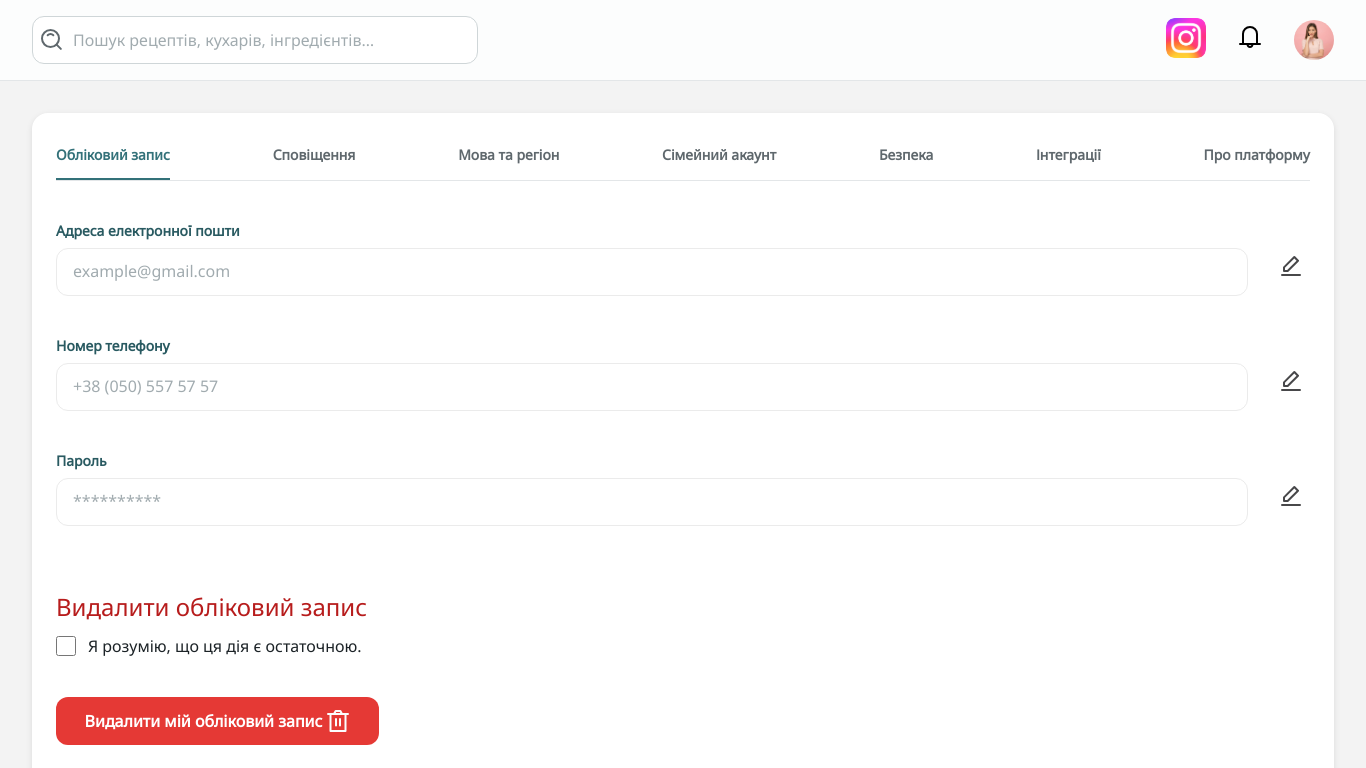
Test: SettingsPage full tests › switches sections when sidebar item is clicked
The image size is (1366, 768).
Click the list item "Сімейний акаунт". click: (719, 154)
box: [662,145,776,164]
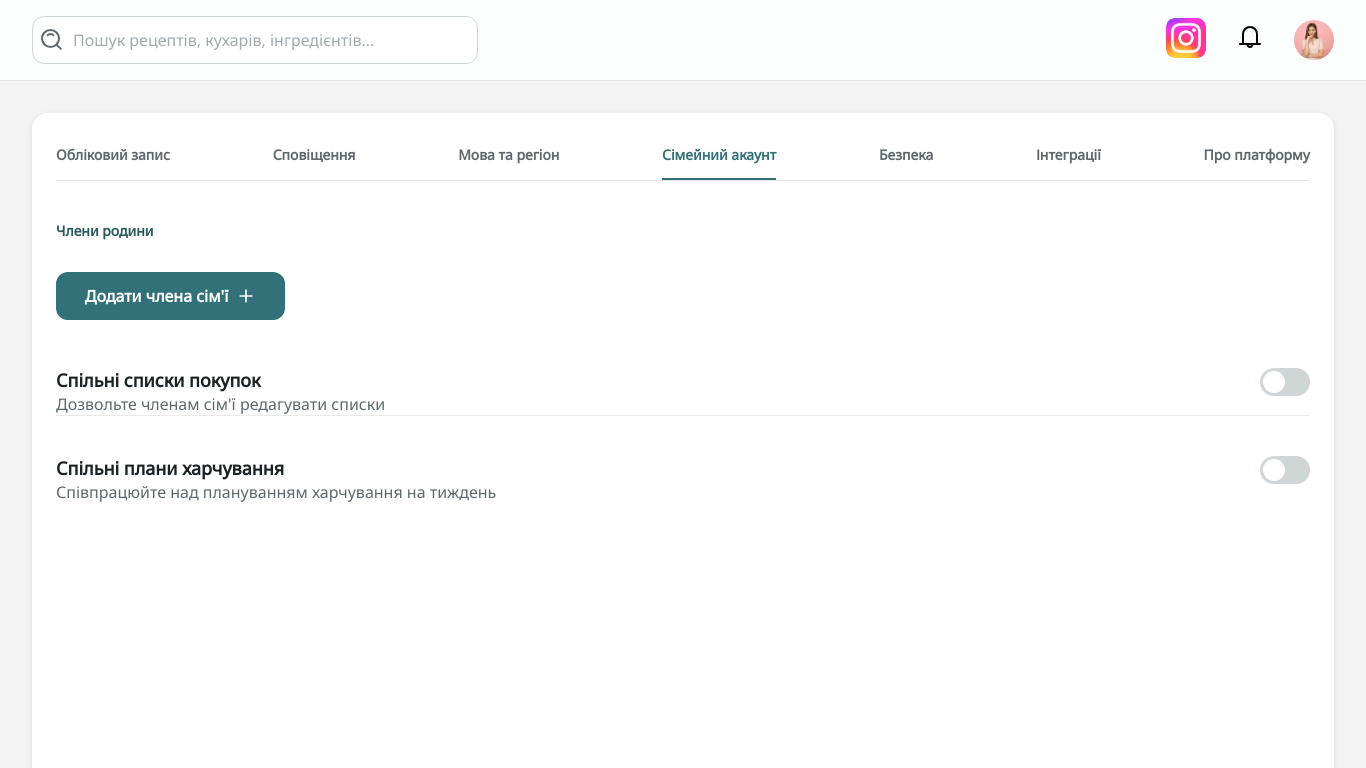
Result: the heading "Члени родини" is shown at [56,221,154,240]
